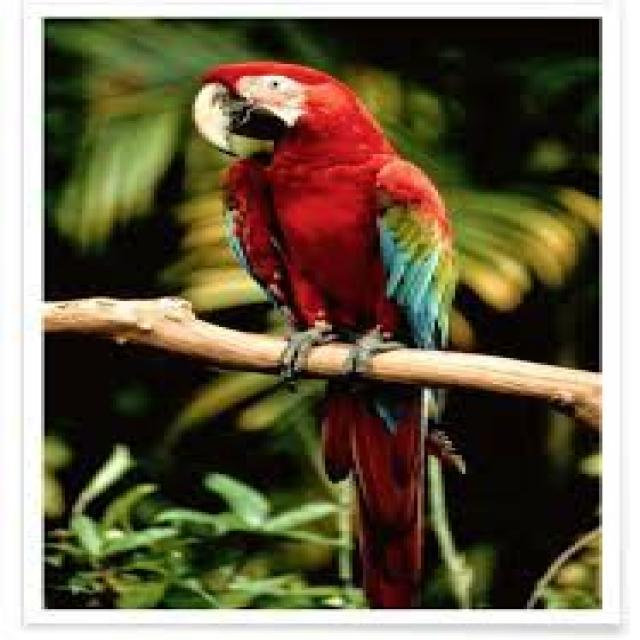Parrot: (190, 56, 470, 604)
